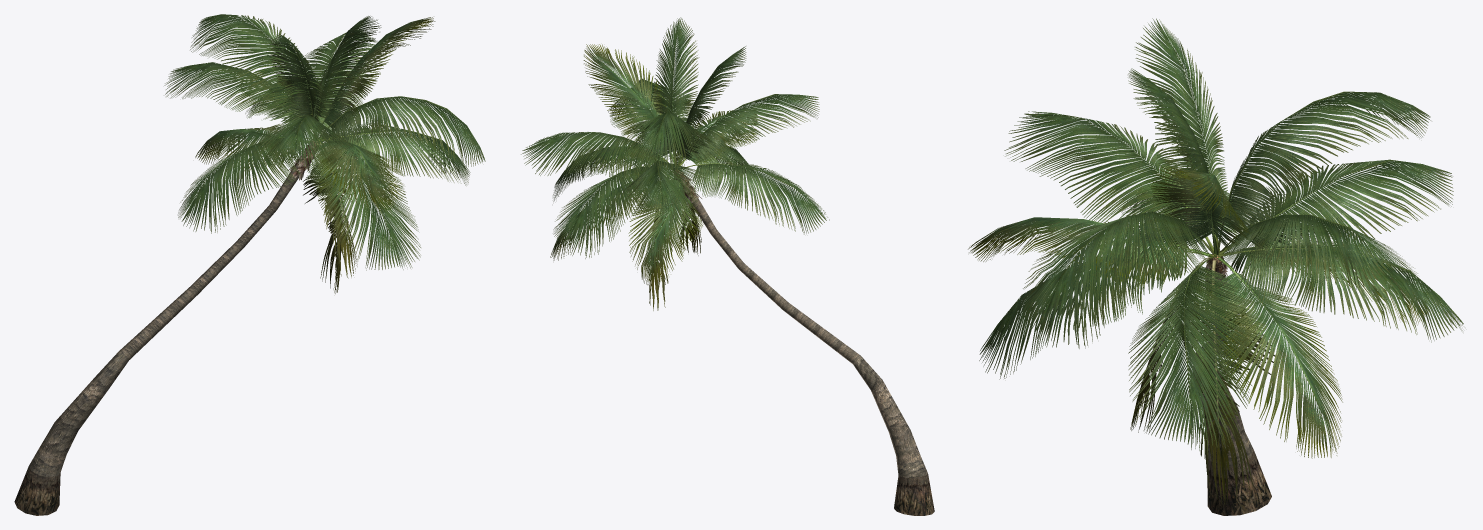
File: MK4_CocoPalm4.DAE
3 views of the same model, side by side, from view 1: azimuth 30°, elevation 25°; view 2: azimuth 150°, elevation 25°; view 3: azimuth 270°, elevation 25° (orthographic). The views are drawn at different scales.
Parts seen in each view (by area): view 1: MK4_CocoPalm4; view 2: MK4_CocoPalm4; view 3: MK4_CocoPalm4.
Boxes of the visible parts, x1,y1,x2,y2 form: MK4_CocoPalm4: (14, 14, 485, 515); MK4_CocoPalm4: (521, 17, 934, 515); MK4_CocoPalm4: (968, 18, 1463, 515).
Size of what is drawn, in the model's own units: 25.12 by 17.43 by 24.7.
